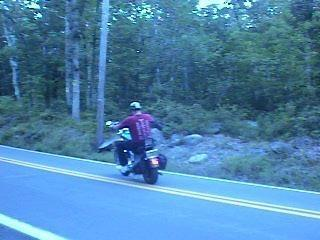motorcycle: (105, 121, 163, 183)
